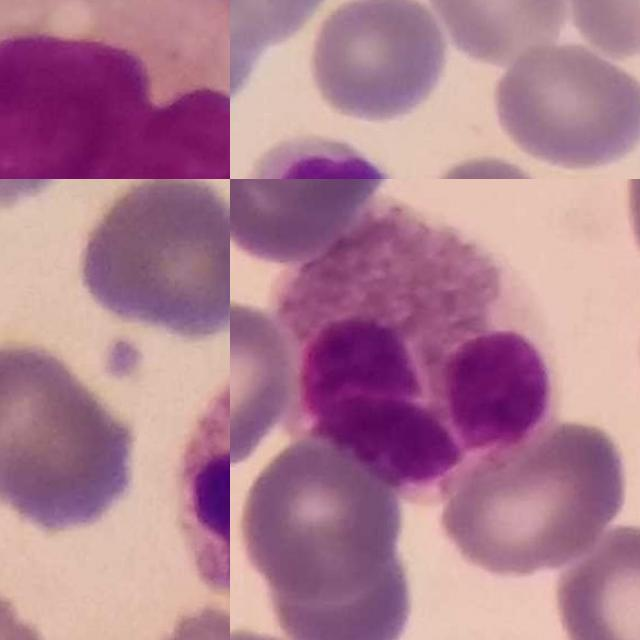Eosinophil: (271, 213, 558, 495)
Lymphocyte: (230, 136, 422, 179)
Monocyte: (0, 0, 230, 179)
Neutrophil: (173, 359, 230, 633)
